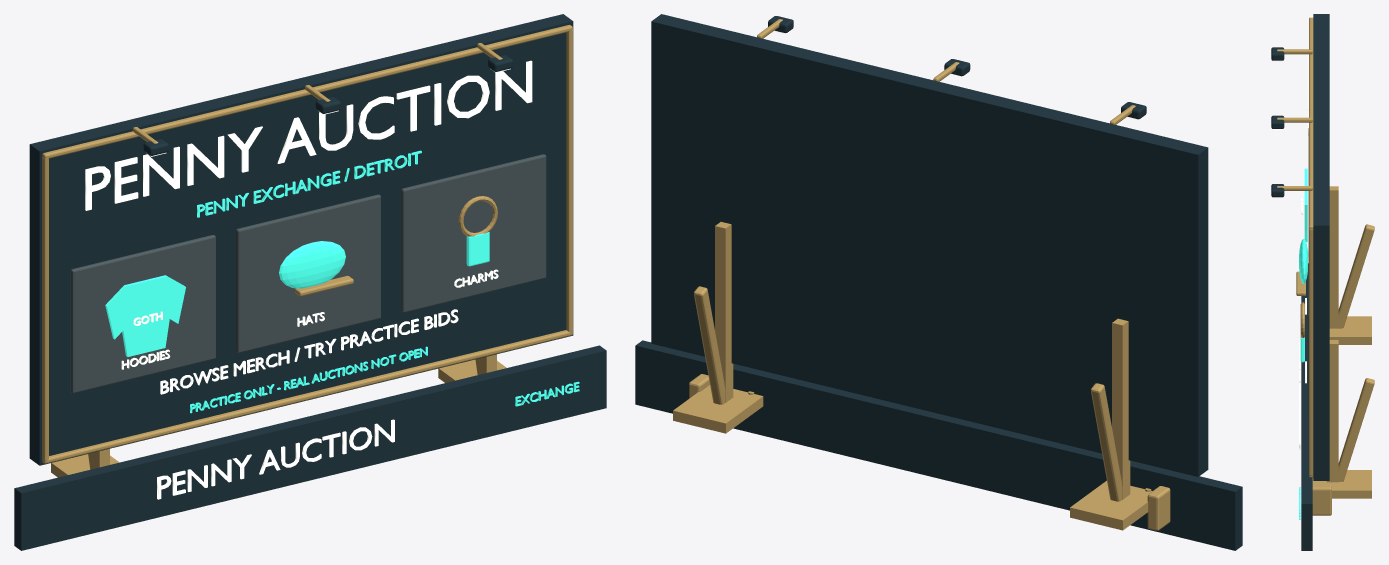
File: penny-auction-signs.glb
3 views of the same model, side by side, from view 1: azimuth 30°, elevation 25°; view 2: azimuth 150°, elevation 25°; view 3: azimuth 270°, elevation 25° (orthographic). The views are drawn at different scales.
Parts seen in each view (by area): view 1: PRP_billboard_MAT_navy, PRP_billboard_MAT_display_cotton, PRP_store_sign_MAT_navy, PRP_billboard_MAT_brass, PRP_billboard_MAT_channel_letters, PRP_billboard_MAT_teal, PRP_store_sign_MAT_channel_letters; view 2: PRP_billboard_MAT_navy, PRP_store_sign_MAT_navy, PRP_billboard_MAT_brass, PRP_store_sign_MAT_brass; view 3: PRP_billboard_MAT_brass, PRP_billboard_MAT_navy, PRP_store_sign_MAT_navy, PRP_billboard_MAT_teal, PRP_store_sign_MAT_brass, PRP_billboard_MAT_channel_letters, PRP_billboard_MAT_display_cotton, PRP_store_sign_MAT_channel_letters.
Boxes of the visible parts, bbox=[...] form: PRP_billboard_MAT_navy: bbox=[29, 14, 573, 465]; PRP_billboard_MAT_display_cotton: bbox=[70, 154, 546, 393]; PRP_store_sign_MAT_navy: bbox=[14, 345, 606, 550]; PRP_billboard_MAT_brass: bbox=[42, 24, 572, 477]; PRP_billboard_MAT_channel_letters: bbox=[85, 60, 532, 394]; PRP_billboard_MAT_teal: bbox=[105, 150, 489, 413]; PRP_store_sign_MAT_channel_letters: bbox=[157, 419, 394, 499]; PRP_billboard_MAT_navy: bbox=[651, 14, 1208, 476]; PRP_store_sign_MAT_navy: bbox=[635, 340, 1242, 550]; PRP_billboard_MAT_brass: bbox=[673, 19, 1152, 530]; PRP_store_sign_MAT_brass: bbox=[689, 374, 1170, 530]; PRP_billboard_MAT_brass: bbox=[1277, 17, 1374, 498]; PRP_billboard_MAT_navy: bbox=[1271, 14, 1329, 480]; PRP_store_sign_MAT_navy: bbox=[1301, 272, 1312, 550]; PRP_billboard_MAT_teal: bbox=[1298, 168, 1307, 362]; PRP_store_sign_MAT_brass: bbox=[1312, 485, 1331, 515]; PRP_billboard_MAT_channel_letters: bbox=[1273, 54, 1308, 383]; PRP_billboard_MAT_display_cotton: bbox=[1308, 128, 1308, 414]; PRP_store_sign_MAT_channel_letters: bbox=[1299, 339, 1300, 450].
Size of the model in its own units: 6.8 by 4.33 by 1.28.
